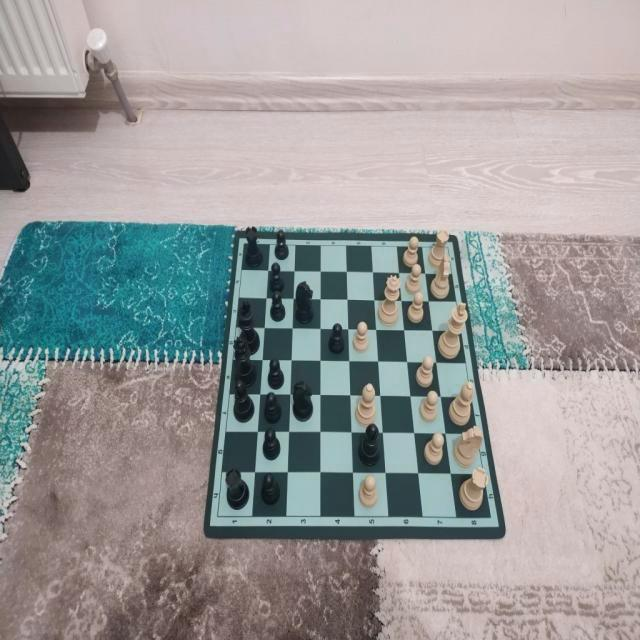chess-table-corners: (213, 509, 222, 524), (486, 512, 496, 524), (442, 242, 453, 252), (240, 238, 248, 250)
